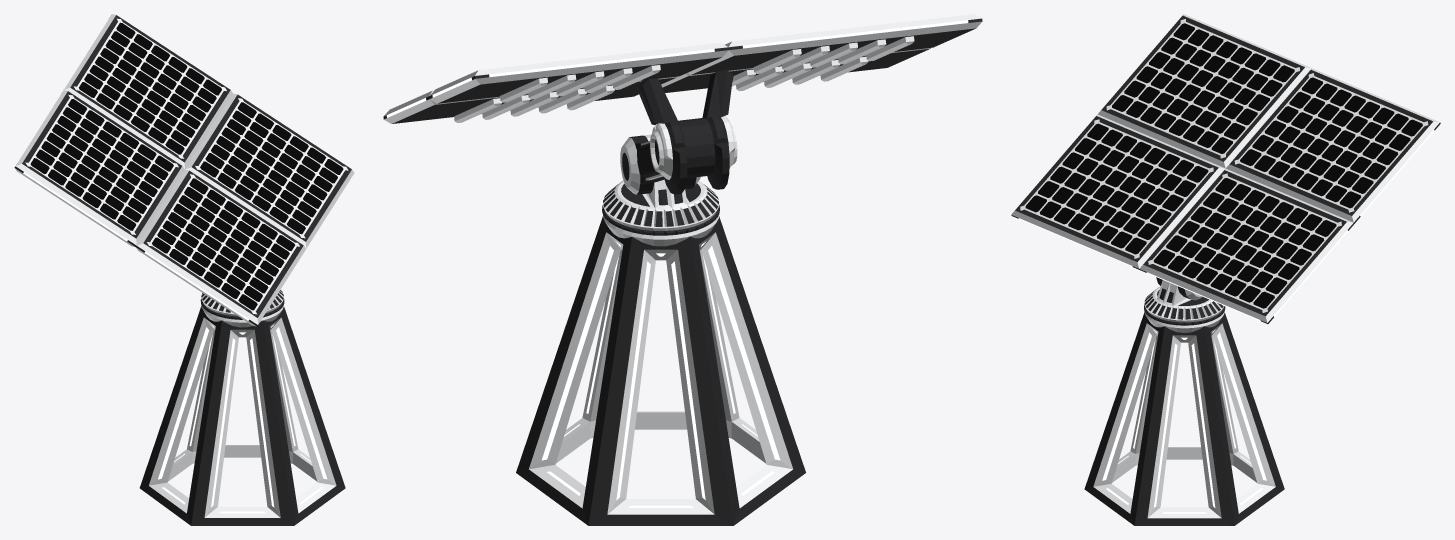
File: SolarPanelTower.fbx
The picture shows the model from 3 angles, left to right: view 1: azimuth 30°, elevation 25°; view 2: azimuth 150°, elevation 25°; view 3: azimuth 270°, elevation 25°; orthographic projection. The views are drawn at different scales.
Parts seen in each view (by area): view 1: SolarPanelTowerComplex_Foundation, SolarPanel_Panel.001, SolarPanel_Panel.002, SolarPanel_Panel.004, SolarPanel_Panel.003, SolarPanelTowerComplex_Neck; view 2: SolarPanelTowerComplex_Foundation, SolarPanel_Panel.004, SolarPanel_Panel.001, SolarPanelTowerComplex_Head, SolarPanel_Panel.003, SolarPanelTowerComplex_Neck, SolarPanelTowerComplex_UpperNeck, SolarPanel_Panel.002; view 3: SolarPanelTowerComplex_Foundation, SolarPanel_Panel.003, SolarPanel_Panel.004, SolarPanel_Panel.002, SolarPanel_Panel.001, SolarPanelTowerComplex_Neck.
Part boxes in pixels (bbox=[...]): SolarPanelTowerComplex_Foundation: bbox=[139, 298, 345, 525]; SolarPanel_Panel.001: bbox=[14, 90, 184, 246]; SolarPanel_Panel.002: bbox=[136, 169, 305, 326]; SolarPanel_Panel.004: bbox=[64, 14, 232, 168]; SolarPanel_Panel.003: bbox=[185, 93, 354, 248]; SolarPanelTowerComplex_Neck: bbox=[201, 289, 283, 314]; SolarPanelTowerComplex_Foundation: bbox=[516, 205, 805, 525]; SolarPanel_Panel.004: bbox=[429, 42, 728, 103]; SolarPanel_Panel.001: bbox=[687, 14, 982, 74]; SolarPanelTowerComplex_Head: bbox=[636, 70, 737, 194]; SolarPanel_Panel.003: bbox=[383, 76, 677, 123]; SolarPanelTowerComplex_Neck: bbox=[603, 134, 719, 228]; SolarPanelTowerComplex_UpperNeck: bbox=[620, 118, 715, 194]; SolarPanel_Panel.002: bbox=[661, 48, 930, 92]; SolarPanelTowerComplex_Foundation: bbox=[1084, 304, 1284, 525]; SolarPanel_Panel.003: bbox=[1139, 168, 1354, 323]; SolarPanel_Panel.004: bbox=[1226, 68, 1440, 223]; SolarPanel_Panel.002: bbox=[1011, 114, 1225, 269]; SolarPanel_Panel.001: bbox=[1097, 14, 1311, 168]; SolarPanelTowerComplex_Neck: bbox=[1144, 280, 1224, 320].
Size of the model in its own units: 1480 by 1480 by 1401.
1 material, 1 textured.
